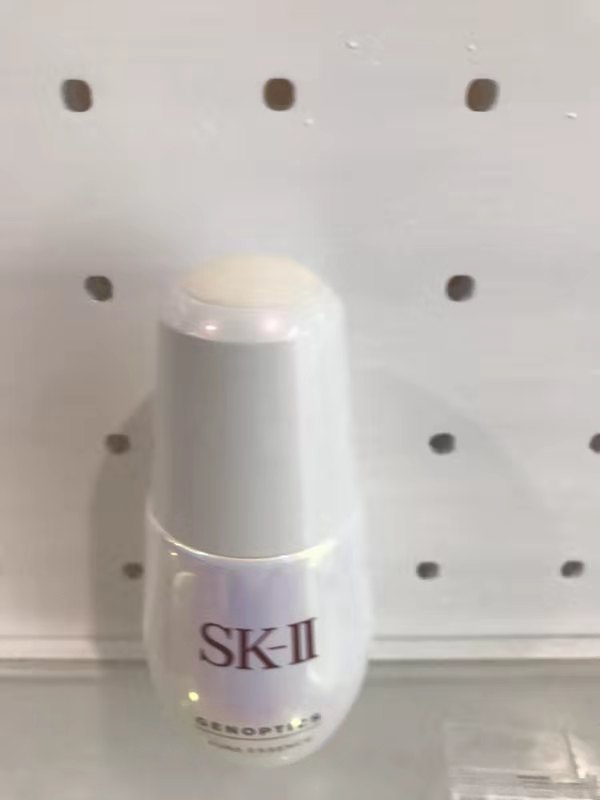sk2: (122, 246, 378, 779)
